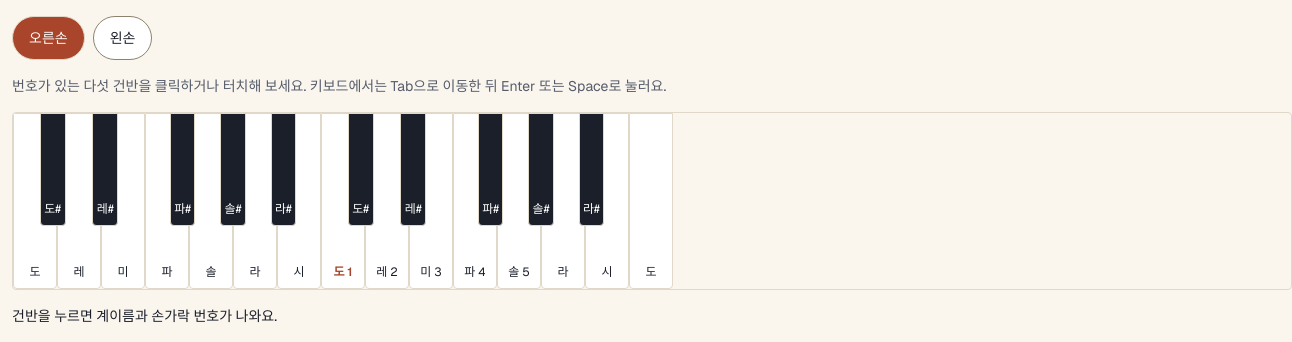
Test: renders five numbered right-hand keys and changes to the mirrored left position
The image size is (1292, 342).
Step 1. Click the button named "오른손 가운데 도 (4옥타브), 손가락 1 엄지" → (343, 201), box x1=321 y1=113 x2=365 y2=289
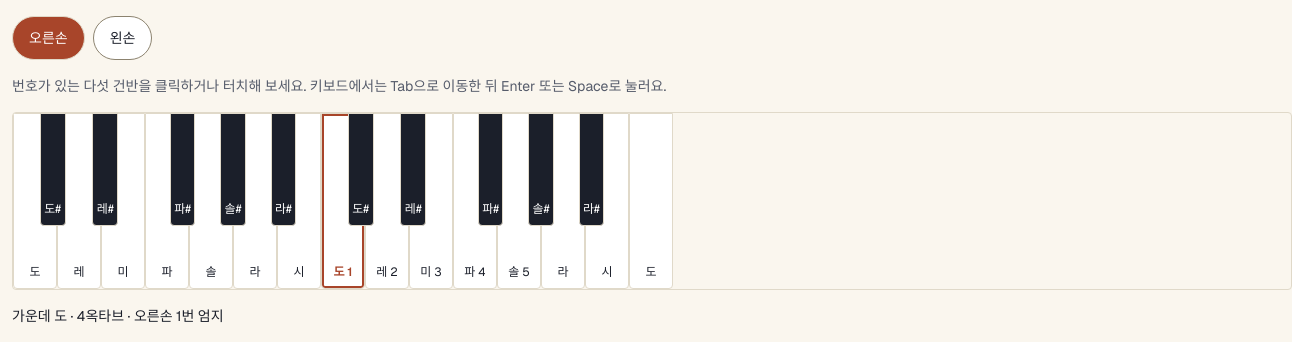
Expected: the message named "누른 건반" reads "가운데 도 · 4옥타브 · 오른손 1번 엄지", x1=12 y1=307 x2=224 y2=325
Step 2. Click the button "왼손" → (122, 38), box x1=93 y1=16 x2=152 y2=60
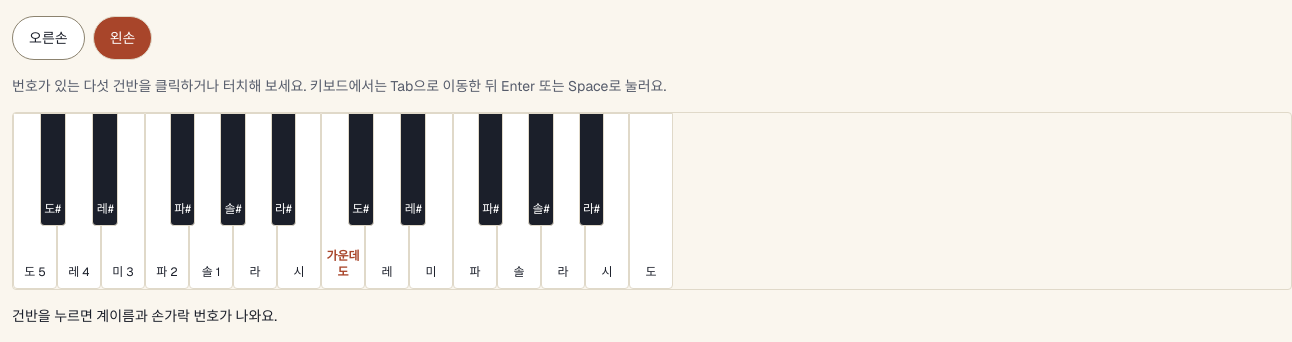
Expected: the number of buttons "도 5" is 5, x1=13 y1=113 x2=57 y2=289; x1=57 y1=113 x2=101 y2=289; x1=101 y1=113 x2=145 y2=289; x1=145 y1=113 x2=189 y2=289; x1=189 y1=113 x2=233 y2=289
Expected: the button named "왼손 도 (3옥타브), 손가락 5 새끼손가락" reads "도 5", x1=13 y1=113 x2=57 y2=289
Expected: the button named "왼손 솔 (3옥타브), 손가락 1 엄지" reads "솔 1", x1=189 y1=113 x2=233 y2=289
